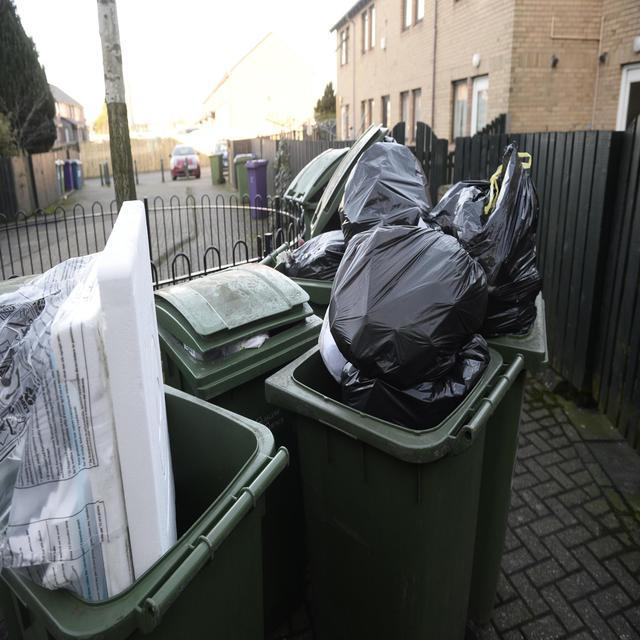garbage: (287, 136, 559, 425)
